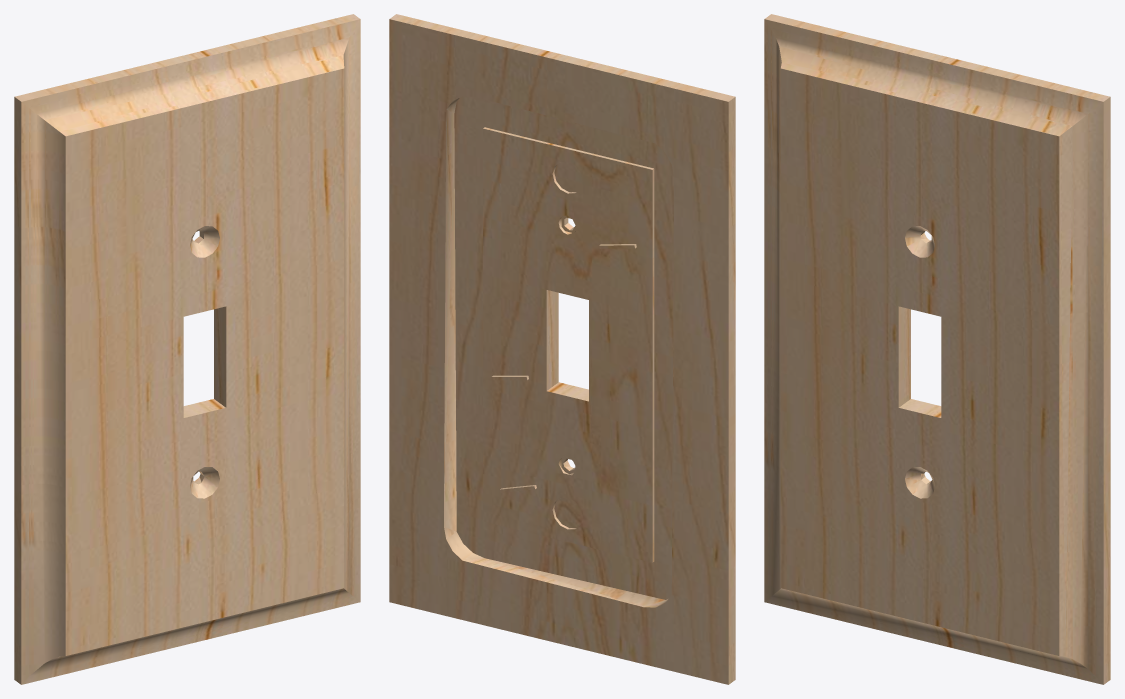
File: sensor.dae
The picture shows the model from 3 angles, left to right: view 1: azimuth 30°, elevation 25°; view 2: azimuth 150°, elevation 25°; view 3: azimuth 330°, elevation 25°; orthographic projection.
Visible parts, largest first — view 1: _01450001-1_Brown_Wood_Inc (×4); view 2: _01450001-1_Brown_Wood_Inc (×6); view 3: _01450001-1_Brown_Wood_Inc (×4).
Part boxes in pixels (x1,y1,x2,y2): _01450001-1_Brown_Wood_Inc (×4): (14, 14, 360, 684); _01450001-1_Brown_Wood_Inc (×6): (389, 14, 735, 684); _01450001-1_Brown_Wood_Inc (×4): (764, 14, 1110, 684).
Size of the model in its own units: 3.5 by 0.375 by 5.75.
1 material, 1 textured.
